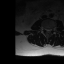CCS_normal: (47, 26, 49, 34)
LFS_normal: (51, 25, 53, 32)
LLS_normal: (49, 26, 51, 34)
RFS_normal: (43, 25, 45, 31)
RLS_normal: (45, 26, 47, 33)
